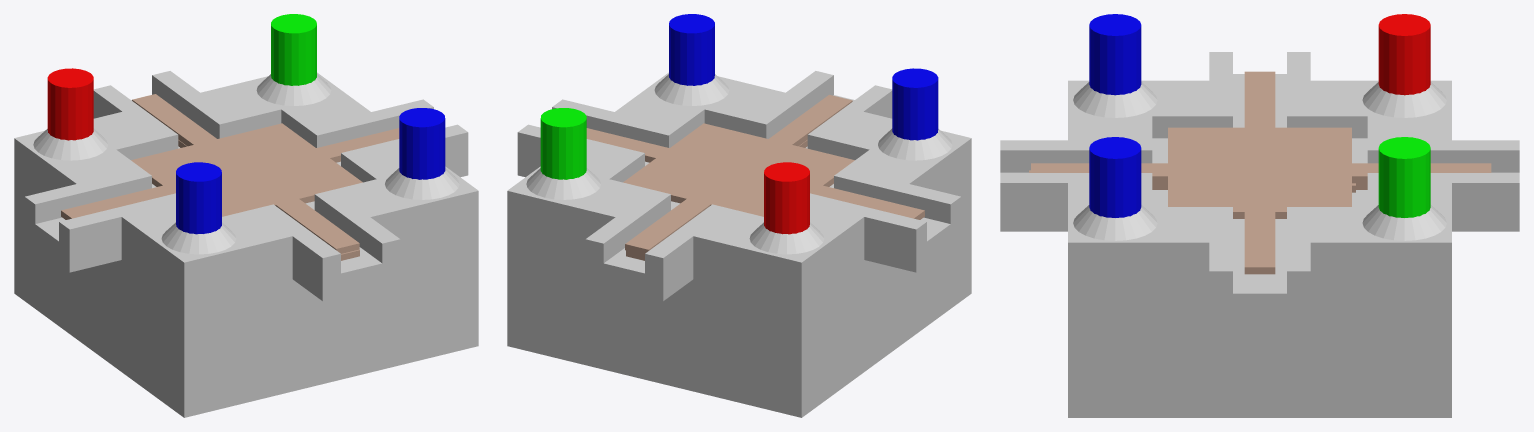
File: convex_block.glb
3 renders of one model, left to right at view 1: azimuth 30°, elevation 25°; view 2: azimuth 150°, elevation 25°; view 3: azimuth 270°, elevation 25°, orthographic. The views are drawn at different scales.
Visible parts, largest first — view 1: ConvexBlock; view 2: ConvexBlock; view 3: ConvexBlock.
Part boxes in pixels (x1,y1,x2,y2): ConvexBlock: [14, 14, 478, 417]; ConvexBlock: [507, 14, 971, 417]; ConvexBlock: [1000, 14, 1519, 417].
Size of the model in its own units: 16.92 by 9 by 16.92.
